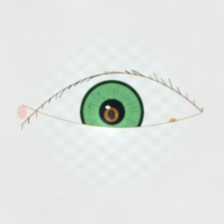foreign_body_visible: (65, 117, 105, 149)
